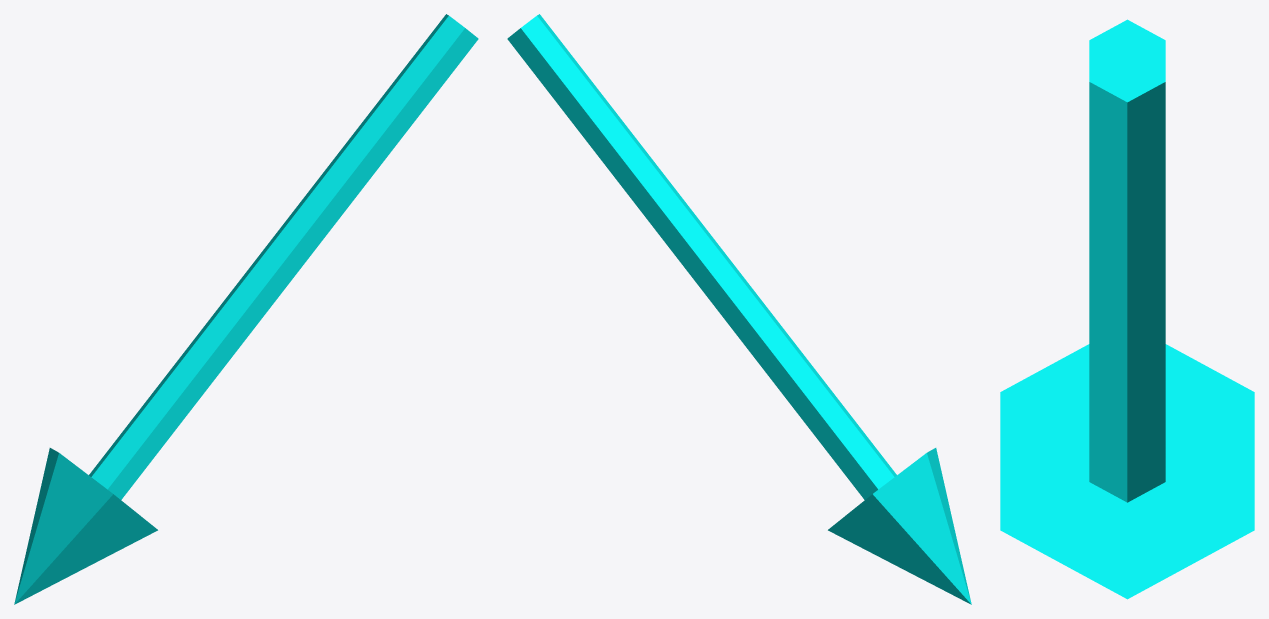
Rendered from arrow45.obj.
3 renders of one model, left to right at view 1: azimuth 30°, elevation 25°; view 2: azimuth 150°, elevation 25°; view 3: azimuth 270°, elevation 25°, orthographic. The views are drawn at different scales.
Parts seen in each view (by area): view 1: pCylinder2; view 2: pCylinder2; view 3: pCylinder2.
Boxes of the visible parts, bbox=[...] form: pCylinder2: bbox=[14, 14, 478, 604]; pCylinder2: bbox=[507, 14, 971, 604]; pCylinder2: bbox=[1000, 19, 1254, 599].
Size of the model in its own units: 0.3629 by 0.3629 by 0.0866.
